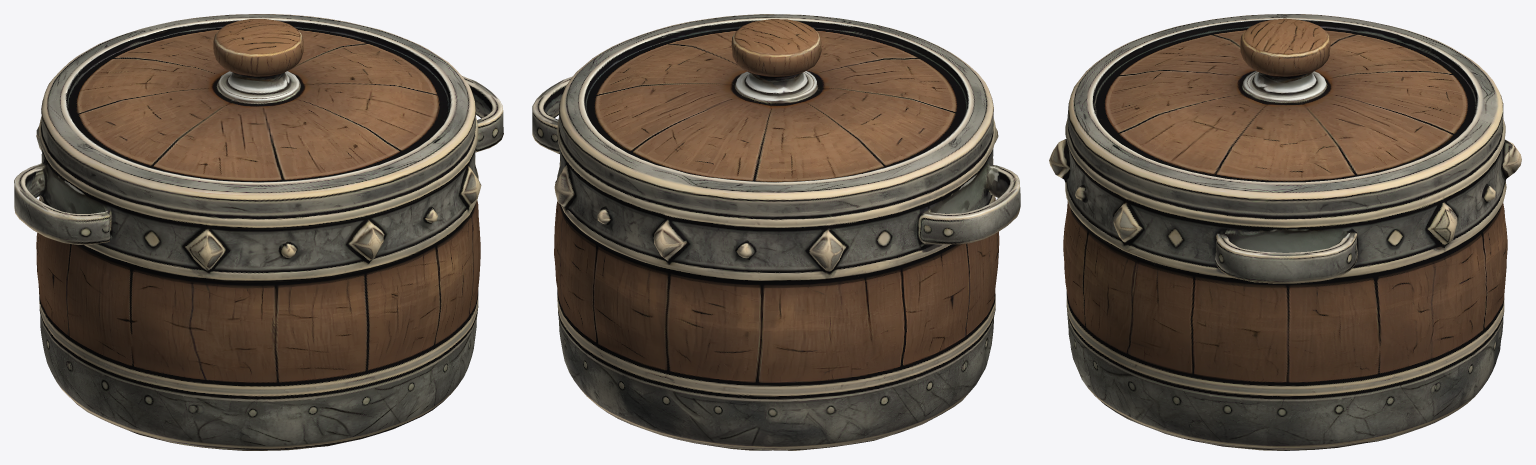
Rendered from pot.fbx.
3 views of the same model, side by side, from view 1: azimuth 30°, elevation 25°; view 2: azimuth 150°, elevation 25°; view 3: azimuth 270°, elevation 25° (orthographic).
Visible parts, largest first — view 1: Mesh_0.011; view 2: Mesh_0.011; view 3: Mesh_0.011.
Part boxes in pixels (box(x1,y1,x2,y2)): Mesh_0.011: box(14, 14, 503, 450); Mesh_0.011: box(532, 14, 1020, 450); Mesh_0.011: box(1049, 14, 1521, 450).
Size of the model in its own units: 38.12 by 29.98 by 33.89.
1 material, 1 textured.
